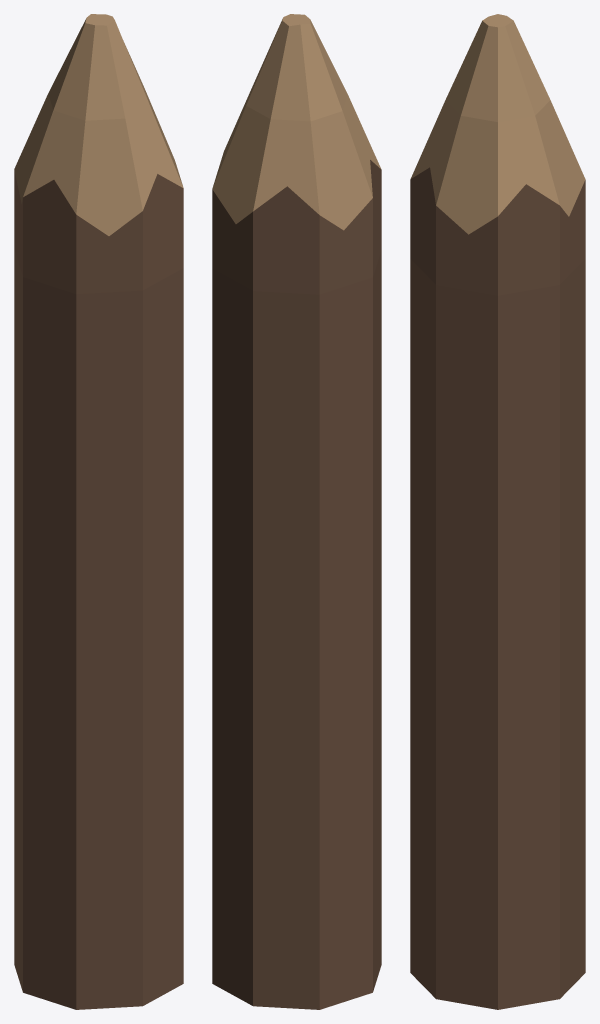
File: Pike.fbx
3 views of the same model, side by side, from view 1: azimuth 30°, elevation 25°; view 2: azimuth 150°, elevation 25°; view 3: azimuth 270°, elevation 25° (orthographic).
Parts seen in each view (by area): view 1: Pike; view 2: Pike; view 3: Pike.
Part boxes in pixels (x1,y1,x2,y2): Pike: [14, 14, 183, 1009]; Pike: [212, 14, 381, 1009]; Pike: [410, 14, 585, 1009].
Size of the model in its own units: 200 by 1201 by 200.
